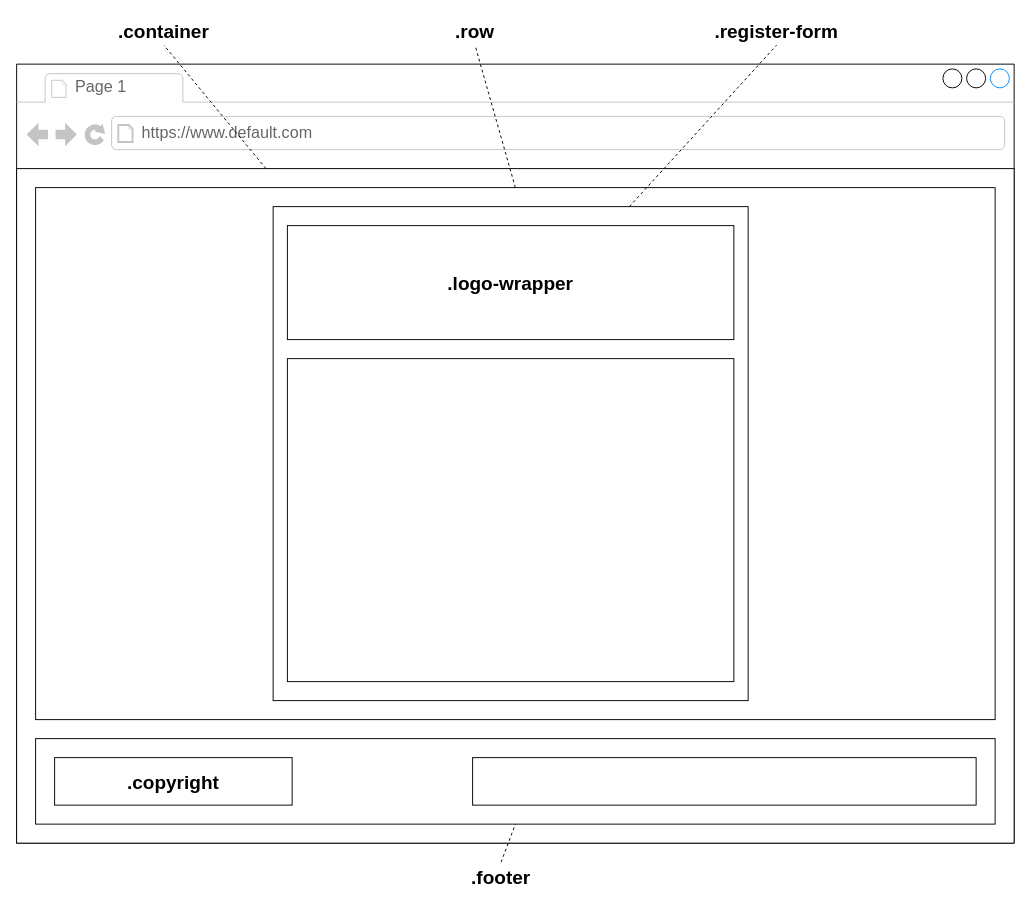
This 1031x906 diagram has some shape labels left out. The centre of each missing label's shape, as x and y in pixels:
".footer-links" goes at pixel 724 781.
"form" goes at pixel 510 520.
